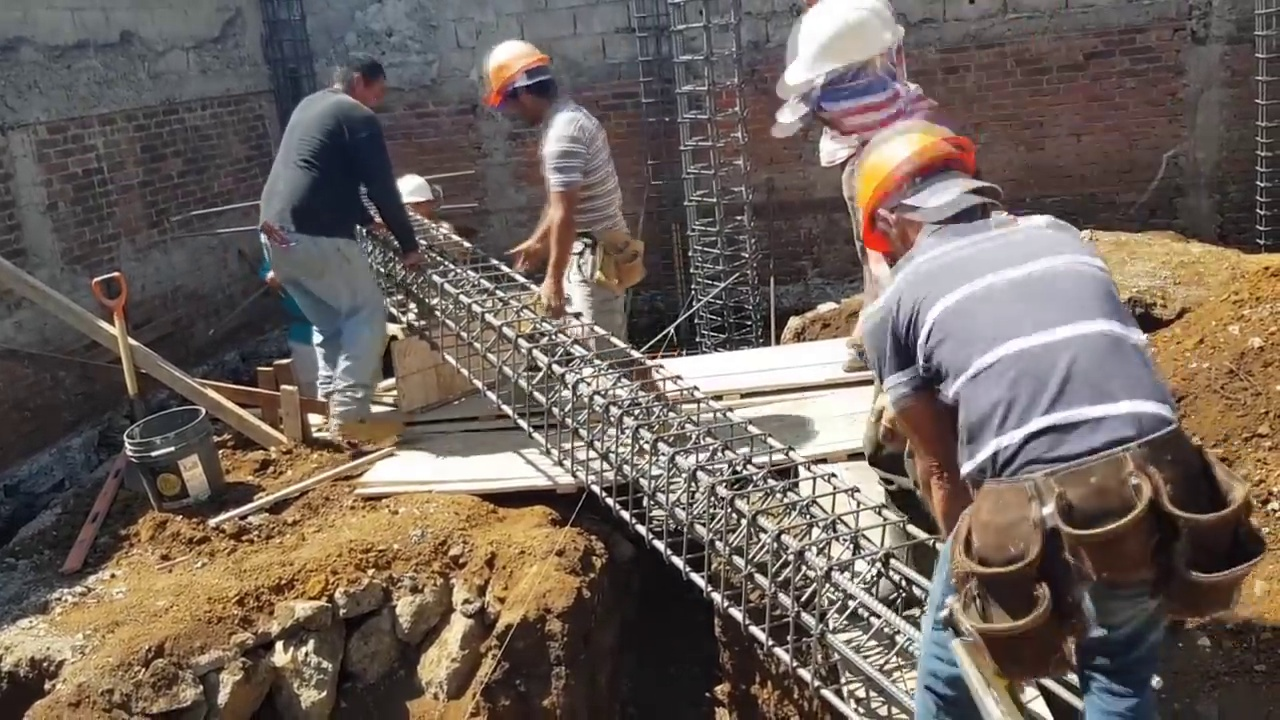helmet: (844, 113, 975, 261), (779, 1, 907, 93), (478, 44, 549, 107), (395, 175, 439, 206)
helmet-off: (335, 55, 387, 111)
helmet-on: (848, 113, 1011, 282), (776, 2, 921, 135), (474, 42, 563, 131), (394, 172, 445, 231)
person: (807, 109, 1259, 700), (264, 48, 423, 453), (770, 2, 935, 302), (481, 48, 630, 377)
